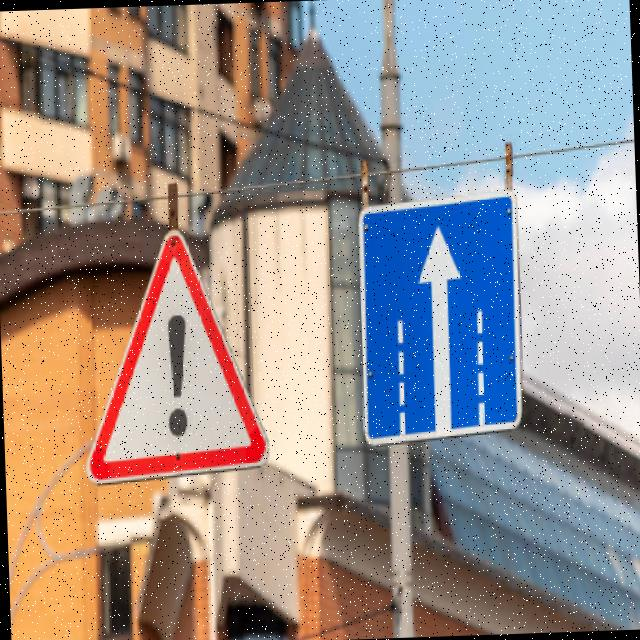warning: (75, 200, 279, 489)
